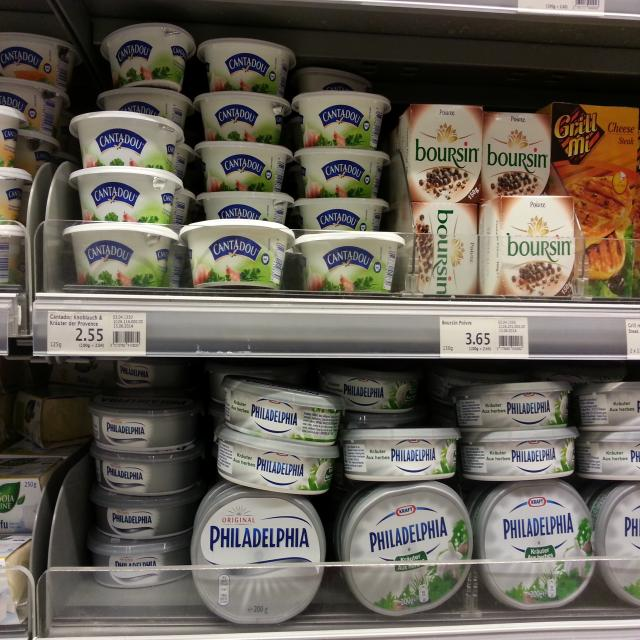Cheese: (192, 485, 325, 624), (341, 481, 473, 616), (553, 104, 640, 297), (476, 481, 596, 610), (480, 197, 574, 298), (214, 421, 341, 494), (222, 374, 346, 448), (399, 104, 482, 204), (180, 218, 296, 288), (62, 222, 179, 287), (70, 110, 185, 172), (69, 166, 184, 228), (88, 391, 204, 452), (100, 21, 196, 92), (295, 232, 406, 292), (340, 426, 460, 481), (461, 426, 579, 480), (90, 440, 201, 496), (90, 484, 200, 540), (482, 112, 550, 202), (450, 381, 572, 431), (197, 36, 298, 96), (411, 203, 477, 294), (292, 90, 392, 149), (598, 481, 640, 607), (90, 535, 191, 587), (194, 91, 291, 143), (316, 365, 421, 413), (194, 141, 293, 191), (294, 148, 390, 198), (0, 33, 82, 90), (196, 192, 295, 226), (295, 198, 391, 231), (575, 382, 640, 430), (579, 431, 640, 480)
